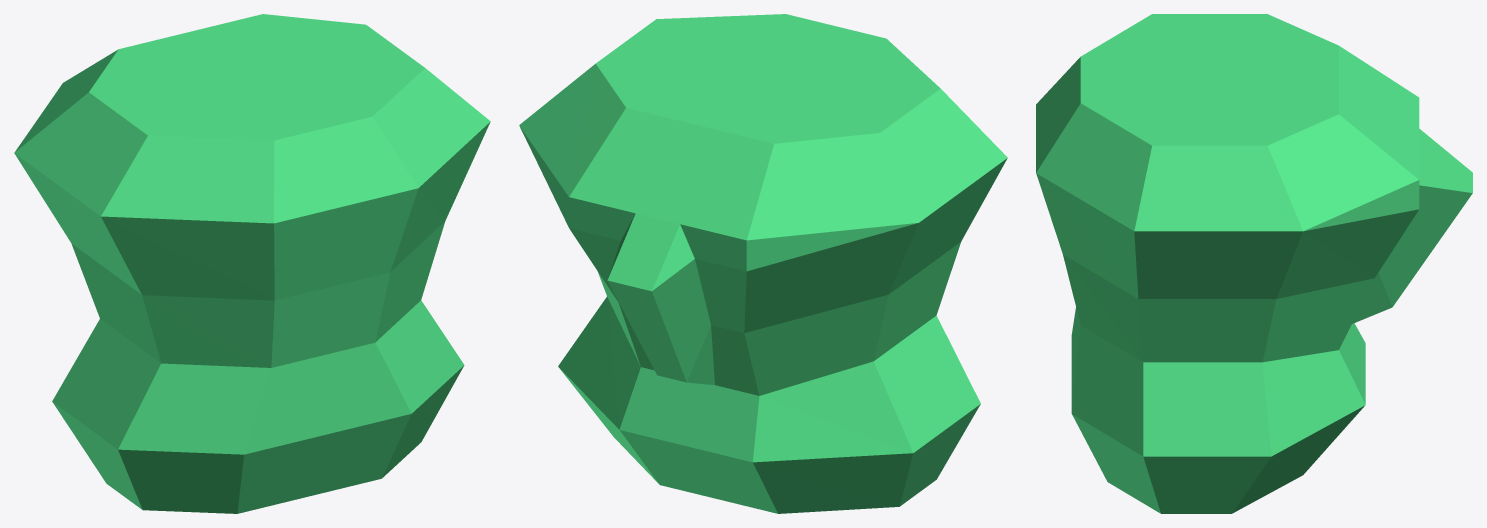
File: robo_hip.FBX
The picture shows the model from 3 angles, left to right: view 1: azimuth 30°, elevation 25°; view 2: azimuth 150°, elevation 25°; view 3: azimuth 270°, elevation 25°; orthographic projection. The views are drawn at different scales.
Parts seen in each view (by area): view 1: VIFS001; view 2: VIFS001; view 3: VIFS001.
Part boxes in pixels (x1,y1,x2,y2): VIFS001: (14, 14, 490, 513); VIFS001: (519, 14, 1007, 513); VIFS001: (1036, 14, 1472, 513).
Size of the model in its own units: 1.08 by 1 by 1.08.
